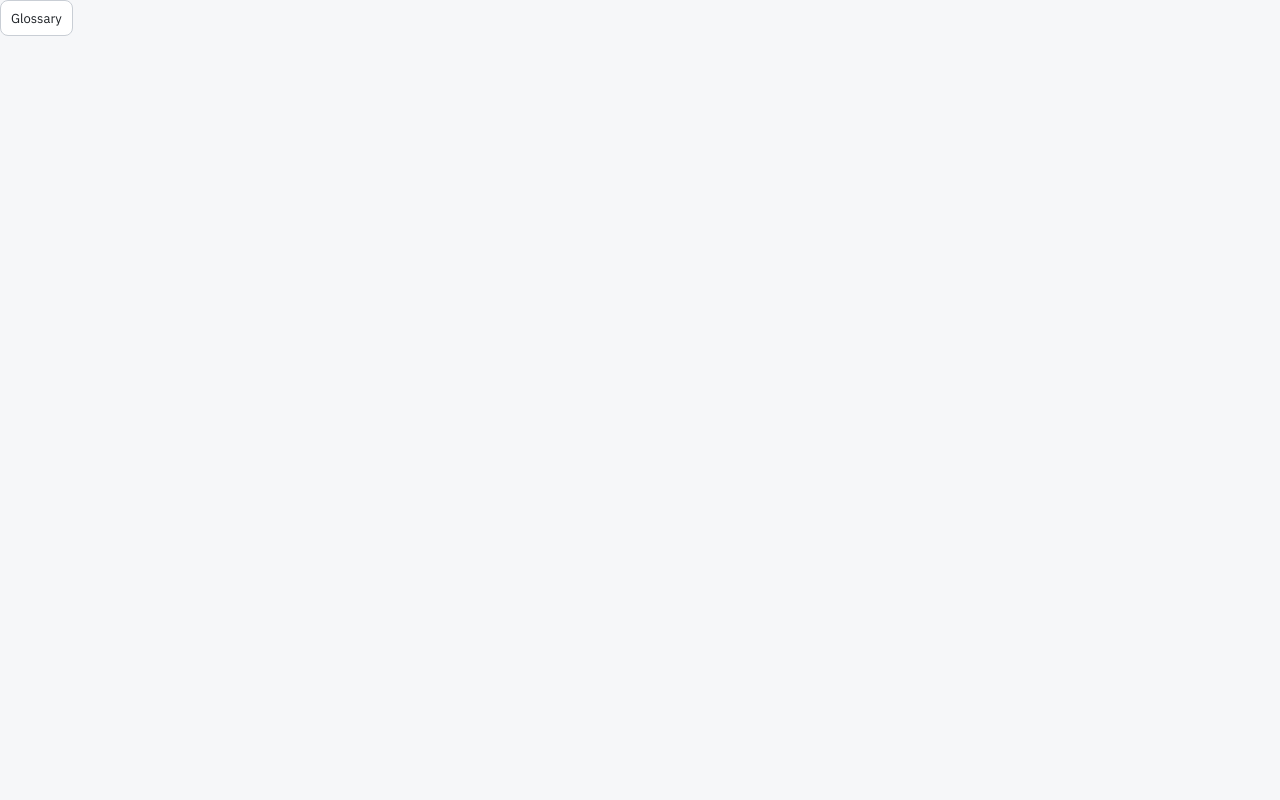
Test: Glossary › explains the jargon the page uses, behind a Glossary button
Click the heading "Glossary" at [36, 18], box top-left (0, 0), bottom-right (73, 36)
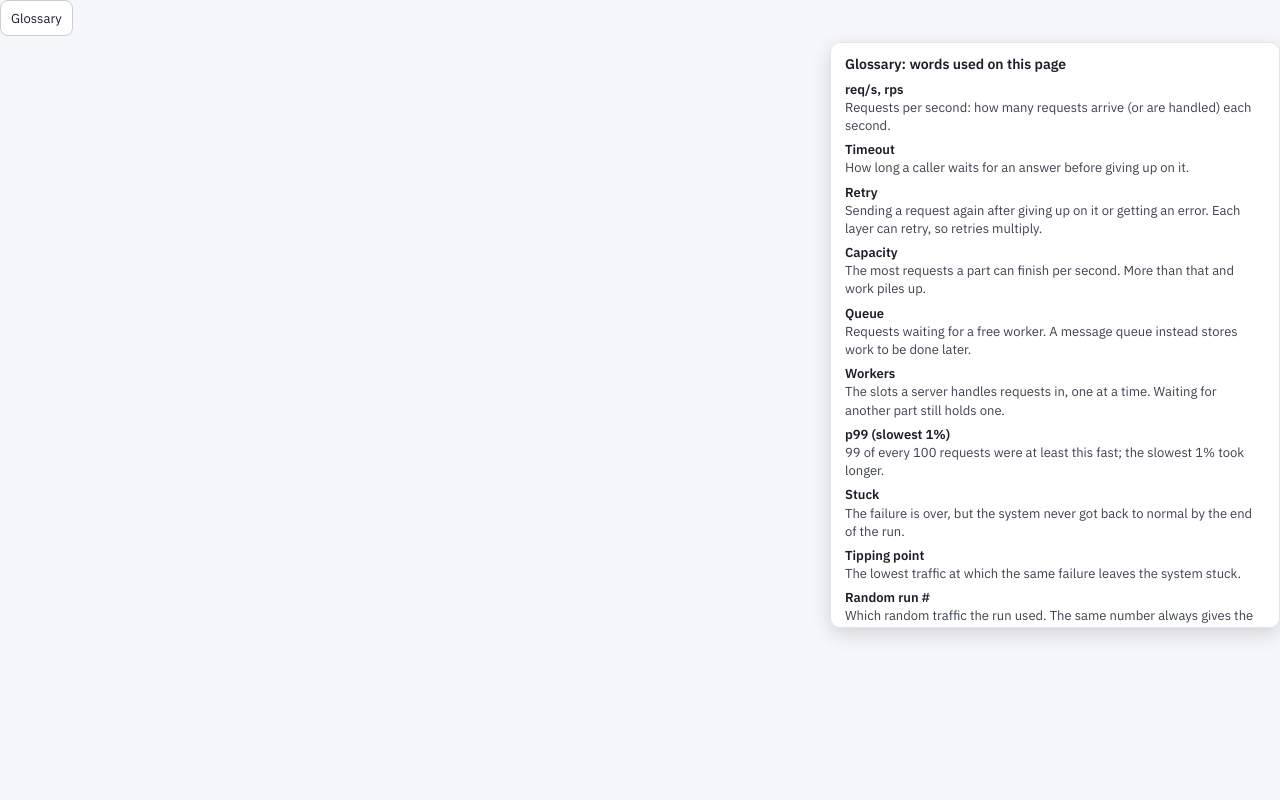
Now the heading "Glossary: words used on this page" is shown, box top-left (845, 55), bottom-right (1066, 73)
Now the text "req/s, rps" is shown, box top-left (845, 81), bottom-right (904, 98)
Now the text "Timeout" is shown, box top-left (845, 141), bottom-right (895, 158)
